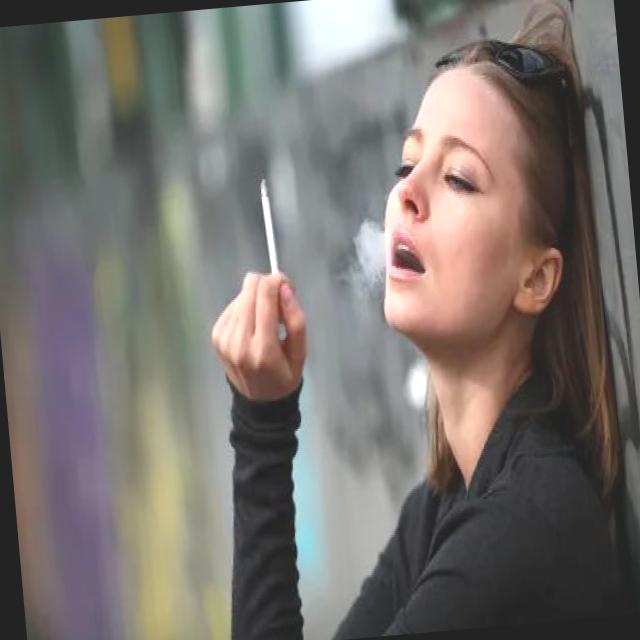cigarette: (254, 170, 284, 280)
